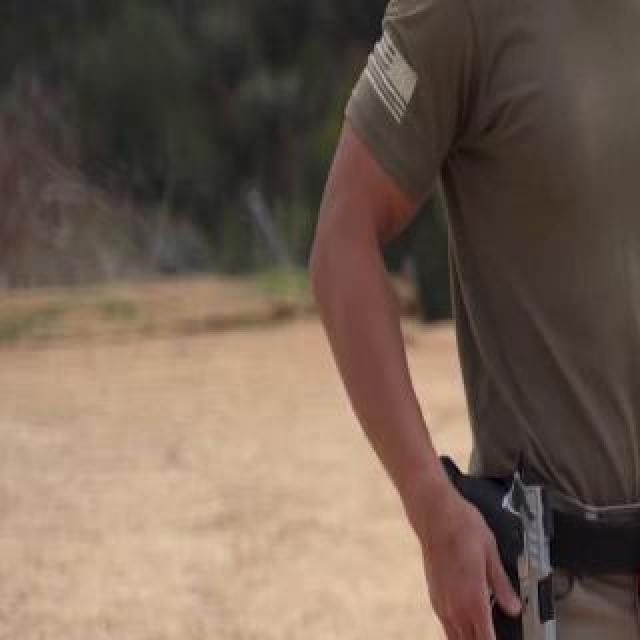Guns: (421, 441, 586, 640)
